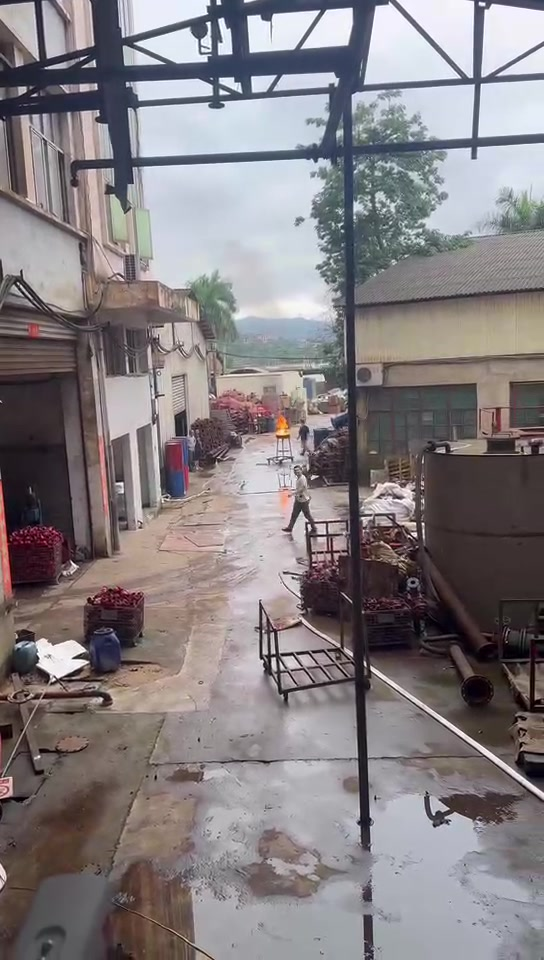fire: (276, 414, 289, 435)
